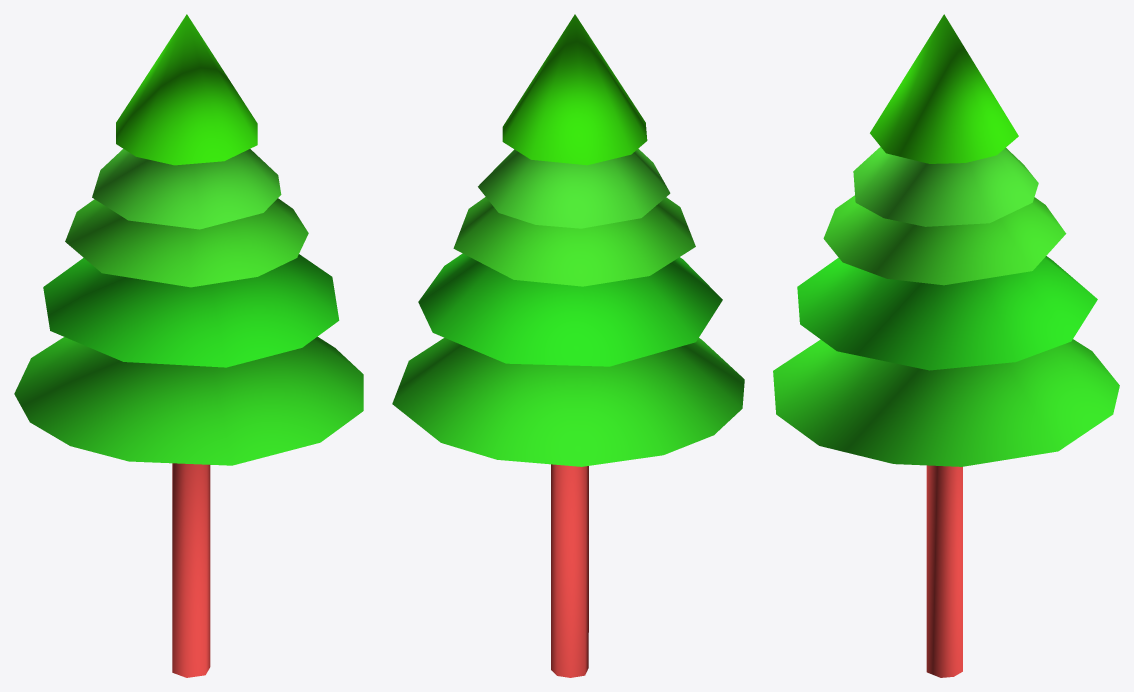
File: pine tree.gltf
3 views of the same model, side by side, from view 1: azimuth 30°, elevation 25°; view 2: azimuth 150°, elevation 25°; view 3: azimuth 270°, elevation 25° (orthographic).
Visible parts, largest first — view 1: Node2, Node3, Node4, Node6, Node5, Node1; view 2: Node2, Node3, Node4, Node6, Node5, Node1; view 3: Node2, Node3, Node4, Node6, Node5, Node1.
Part boxes in pixels (x1,y1,x2,y2): Node2: [14, 336, 363, 465]; Node3: [43, 254, 339, 367]; Node4: [65, 198, 308, 287]; Node6: [116, 14, 257, 165]; Node5: [92, 149, 281, 229]; Node1: [172, 463, 210, 677]; Node2: [392, 338, 744, 466]; Node3: [418, 253, 722, 366]; Node4: [453, 197, 695, 286]; Node6: [502, 14, 647, 165]; Node5: [478, 148, 670, 228]; Node1: [551, 464, 588, 677]; Node2: [773, 339, 1119, 466]; Node3: [797, 256, 1097, 370]; Node4: [823, 195, 1066, 285]; Node6: [870, 14, 1018, 163]; Node5: [853, 147, 1038, 226]; Node1: [926, 465, 962, 677].
Bounding box in the file's own units: 2.83 × 5.81 × 2.8.
